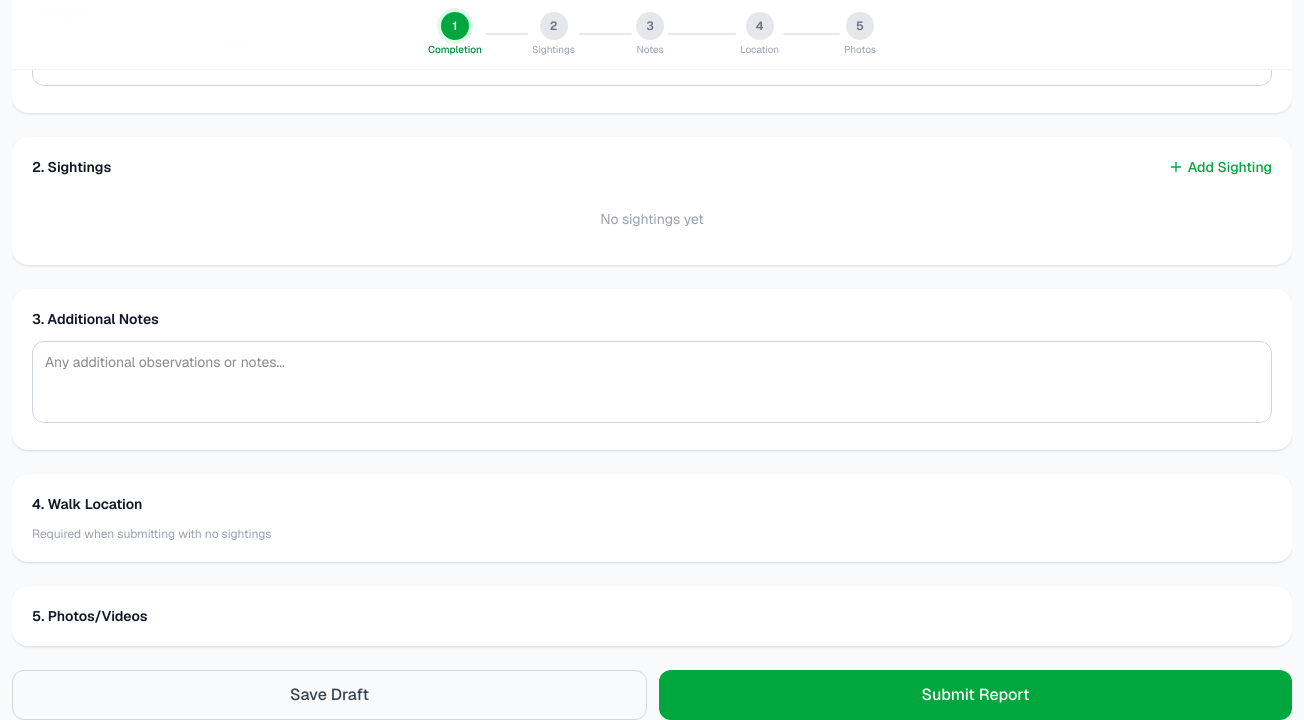
Test: warns before immediate document departure, and stops warning after saving
This screenshot has width=1304, height=720.
(page scrolled)
Type "new note" into the text box with placeholder "Any additional observations or notes..." at (652, 382), box [32,340,1272,422]
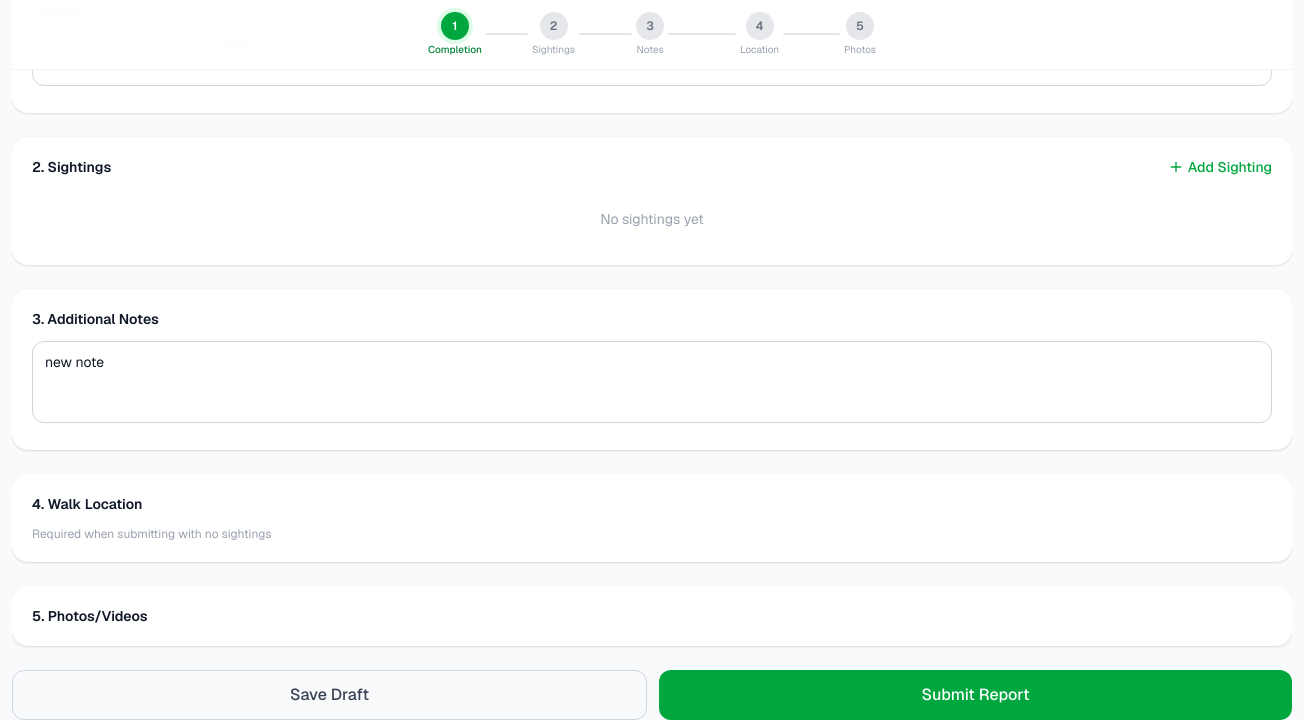
Click the button "Save Draft" at (330, 694), box [12,670,647,719]
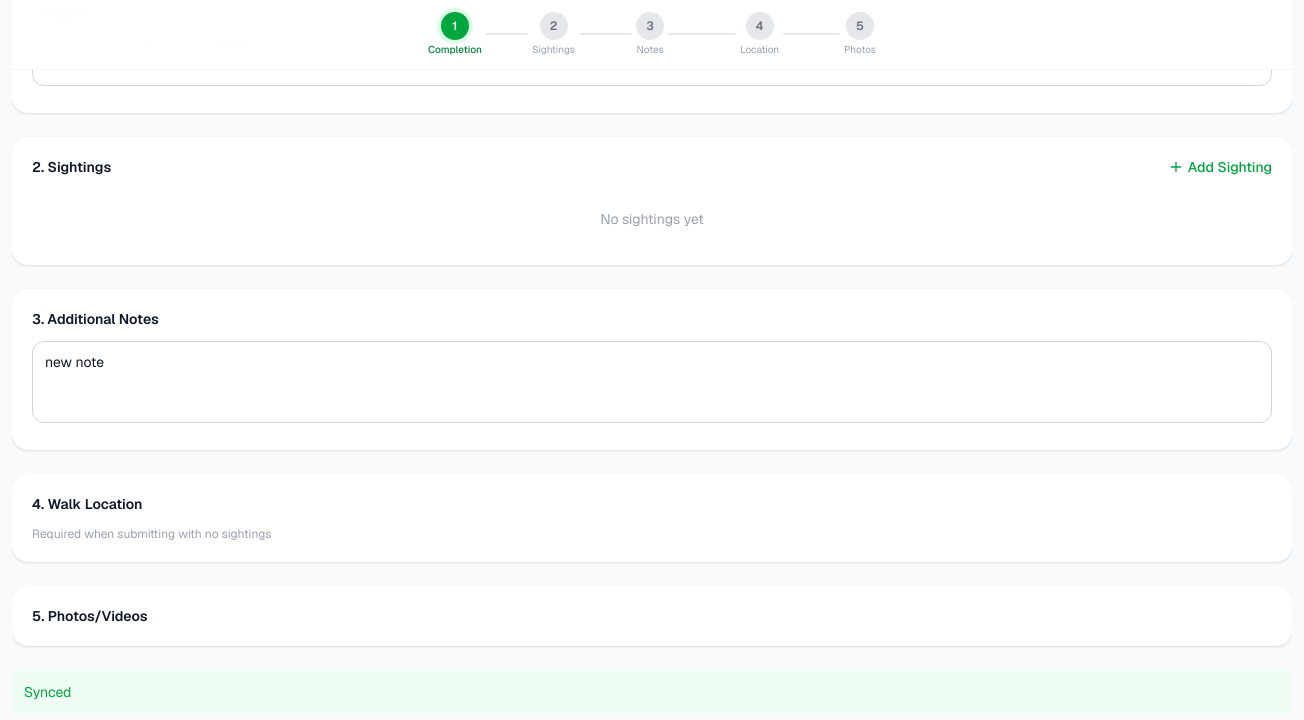
Expected: the text "Synced" is shown, [12,670,1292,714]
